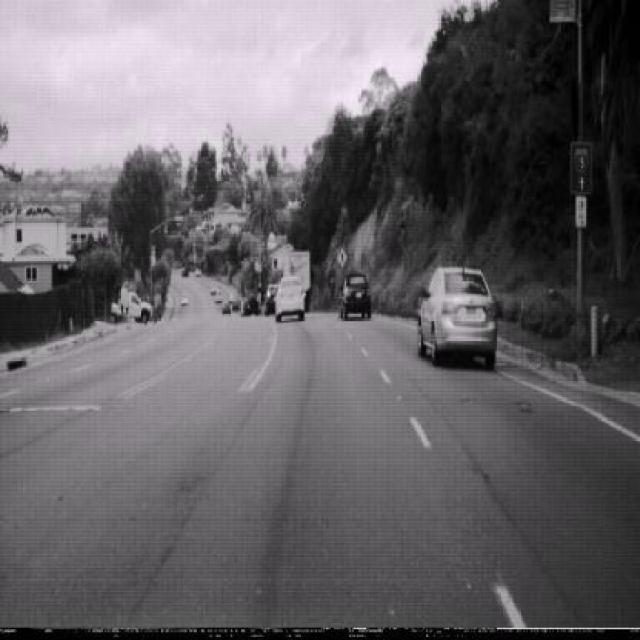pedestrianCrossing: (337, 246, 348, 269)
